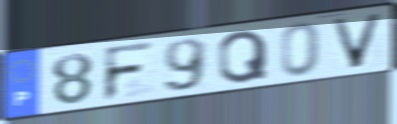0: (279, 20, 323, 78)
8: (48, 50, 95, 107)
9: (160, 35, 213, 92)
F: (101, 39, 157, 103)
Q: (216, 28, 271, 86)
V: (328, 11, 387, 71)
